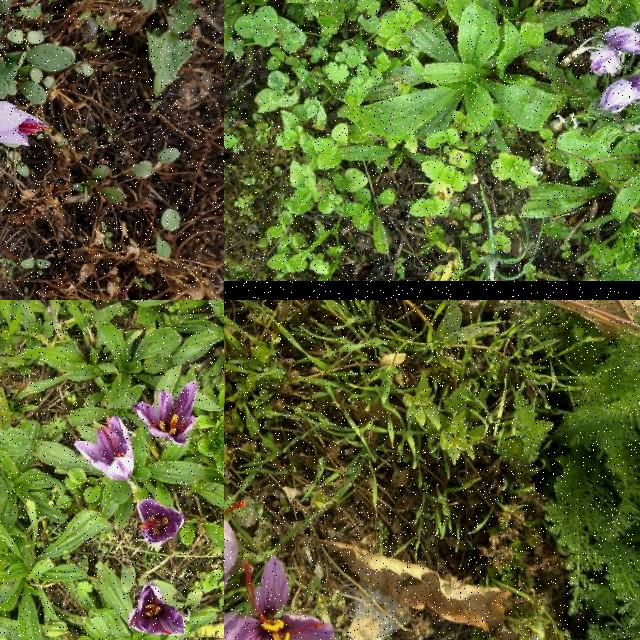flower: (224, 555, 336, 640), (133, 382, 197, 446), (76, 416, 134, 484), (128, 582, 186, 638), (0, 100, 50, 148), (136, 501, 184, 547), (602, 27, 640, 55), (590, 45, 622, 77)
overlap: (600, 65, 640, 112)
